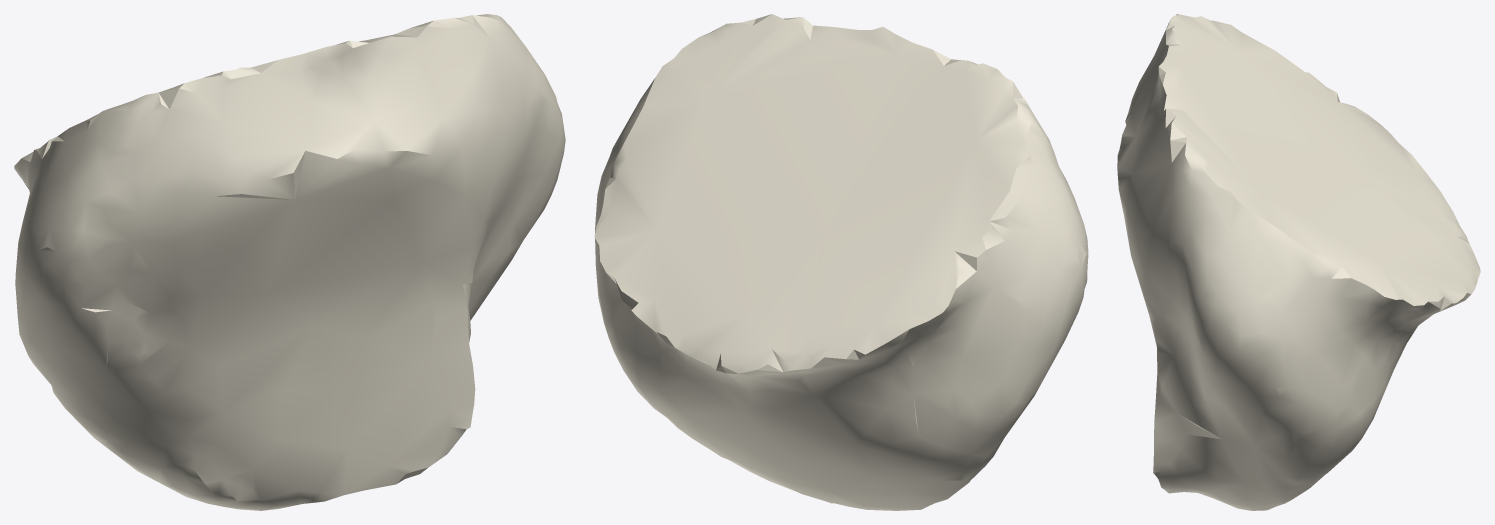
Rendered from fma35497_mm1601.glb.
3 renders of one model, left to right at view 1: azimuth 30°, elevation 25°; view 2: azimuth 150°, elevation 25°; view 3: azimuth 270°, elevation 25°, orthographic. The views are drawn at different scales.
Visible parts, largest first — view 1: FMA35497_MM1601; view 2: FMA35497_MM1601; view 3: FMA35497_MM1601.
Part boxes in pixels (x1=…): FMA35497_MM1601: x1=14, y1=14, x2=565, y2=510; FMA35497_MM1601: x1=594, y1=14, x2=1088, y2=510; FMA35497_MM1601: x1=1117, y1=14, x2=1480, y2=510.
Size of the model in its own units: 0.0116 by 0.0104 by 0.00809.
